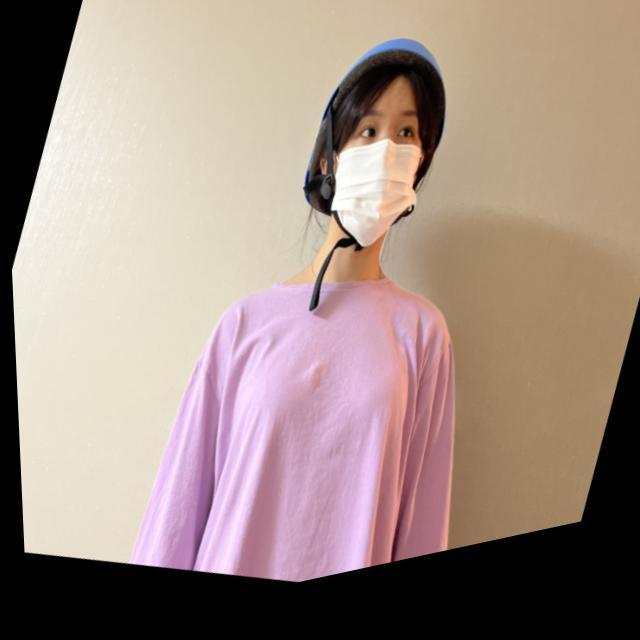Helmet: (300, 39, 447, 251)
